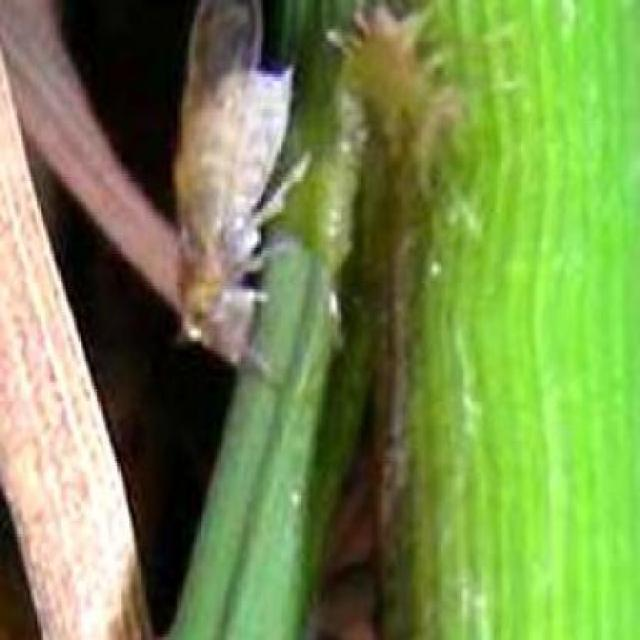brown-planthopper: (166, 3, 294, 362)
